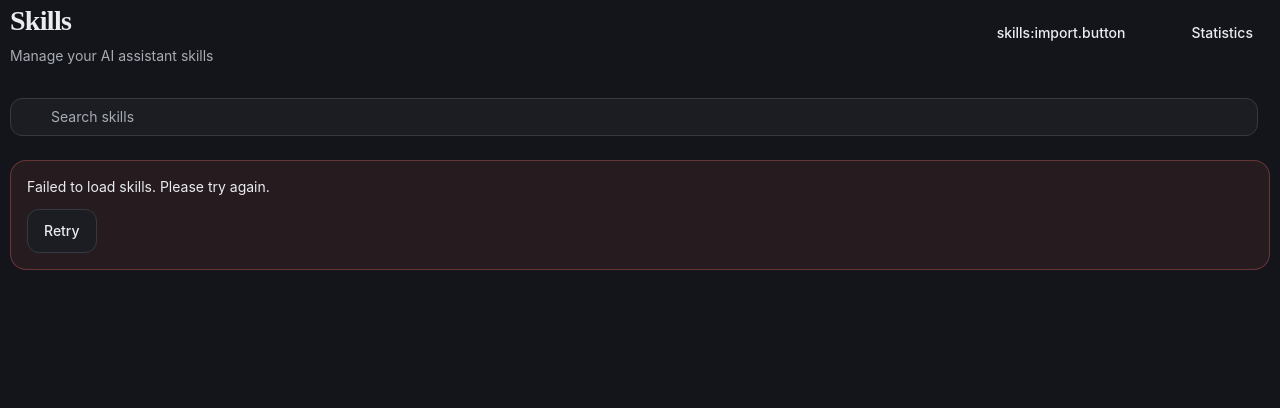
SkillsPage › Error Handling › shows a retryable error instead of an empty discover list after initial failure
expect the message shows "Failed to load skills. Please try again.": met, box top-left (27, 178), bottom-right (270, 195)
Click the button "Retry": (62, 231) top-left (27, 209), bottom-right (97, 253)
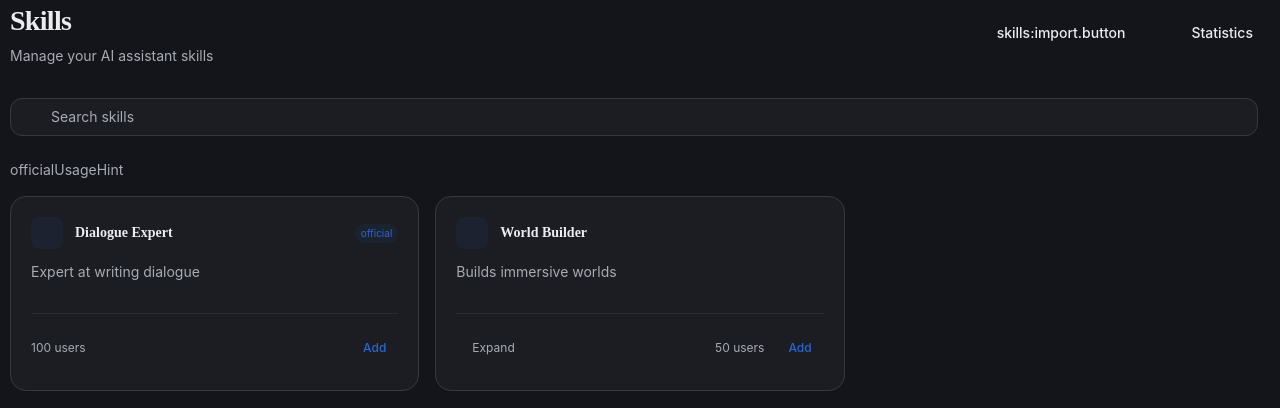
expect the heading "Dialogue Expert" is shown: met, box top-left (75, 225), bottom-right (173, 240)
expect the message "Failed to load skills. Please try again. Retry" is gone: met
